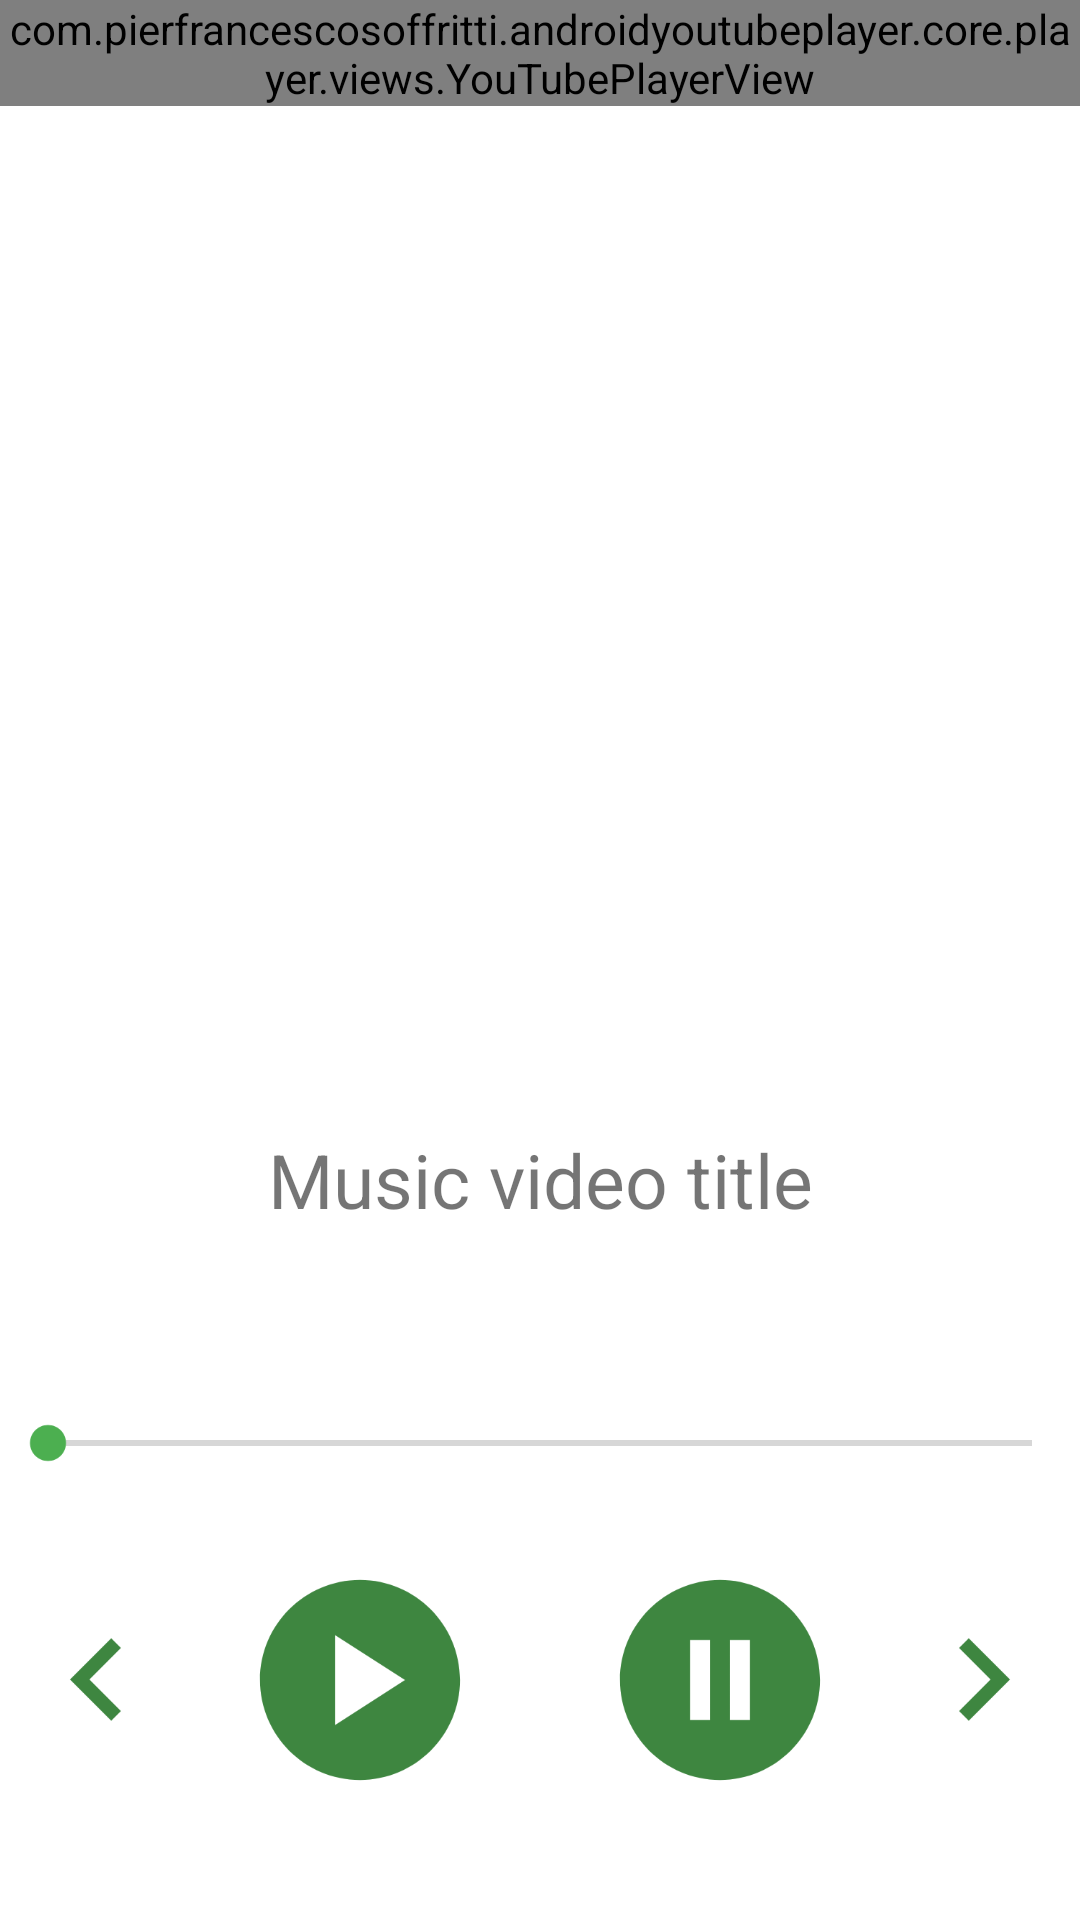

Icon click points for this 1080*1920 phone screenshot, format (x,y):
next: (984,1679)
pause: (719,1680)
play: (359,1680)
prev: (95,1679)
